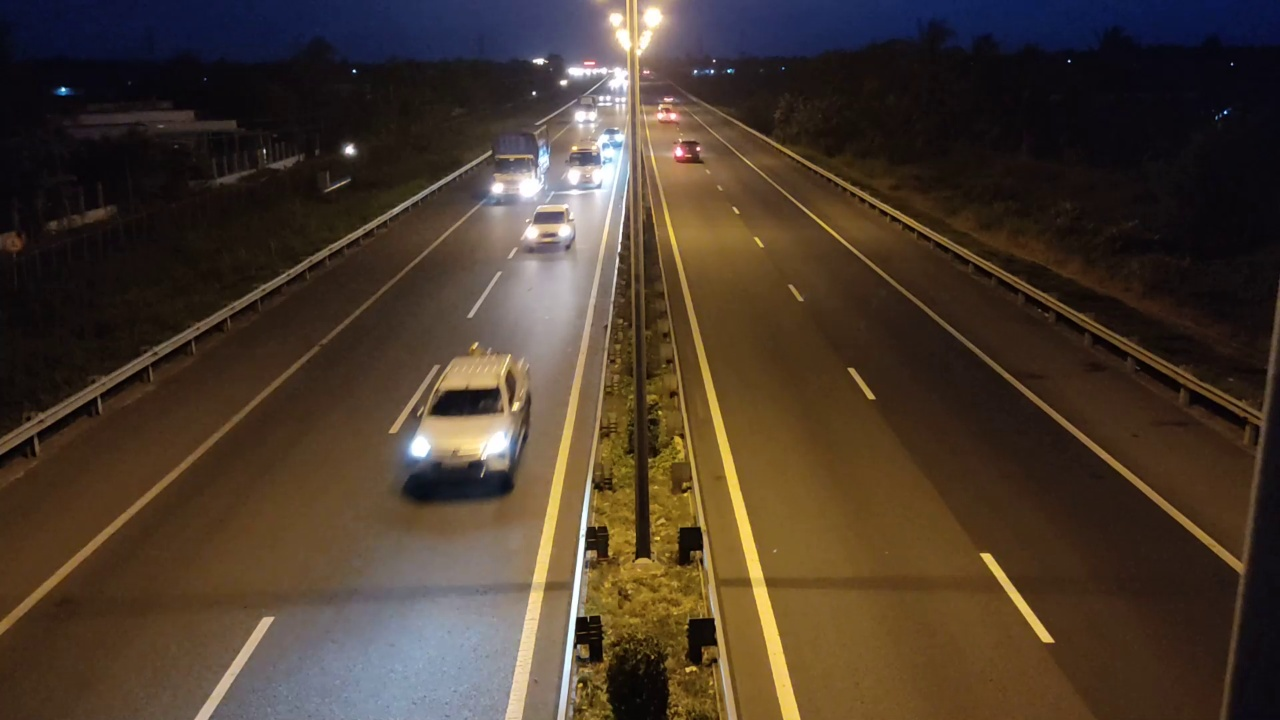car: (395, 349, 533, 499), (521, 203, 576, 253), (671, 138, 703, 164)
